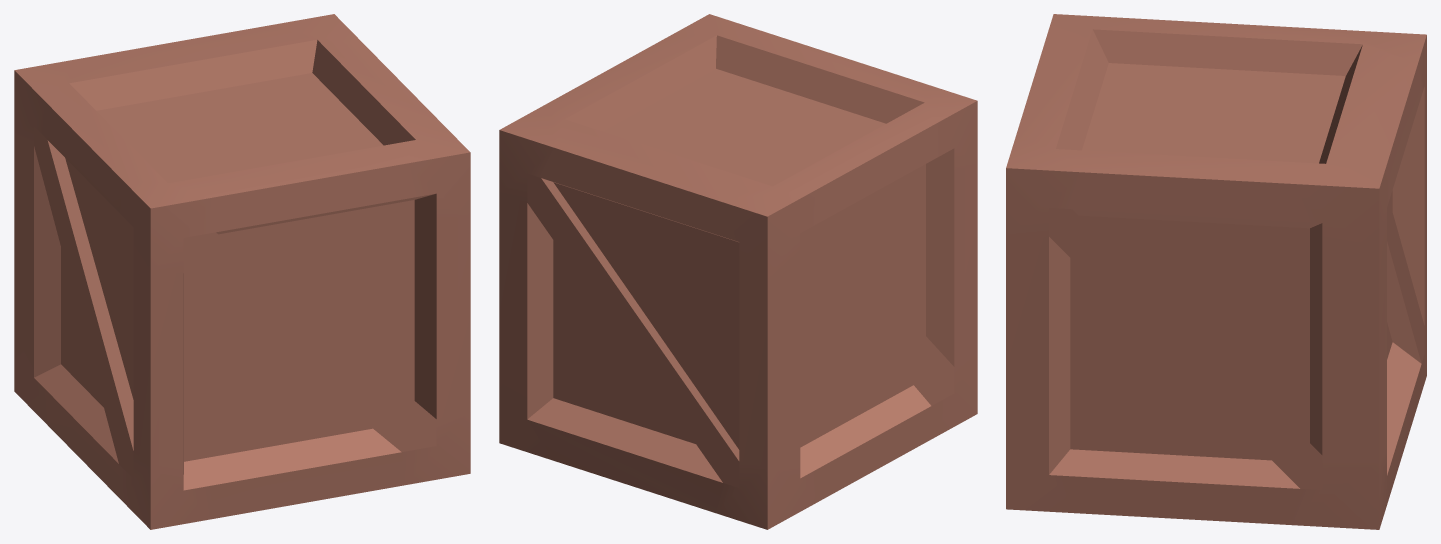
The model's file is Crate.fbx.
The picture shows the model from 3 angles, left to right: view 1: azimuth 30°, elevation 25°; view 2: azimuth 150°, elevation 25°; view 3: azimuth 270°, elevation 25°; orthographic projection. The views are drawn at different scales.
Parts seen in each view (by area): view 1: Box13; view 2: Box13; view 3: Box13.
Boxes of the visible parts, box(x1,y1,x2,y2) form: Box13: box(14, 14, 470, 529); Box13: box(499, 14, 977, 529); Box13: box(1006, 14, 1426, 529).
Size of the model in its own units: 0.144 by 0.1323 by 0.1466.
